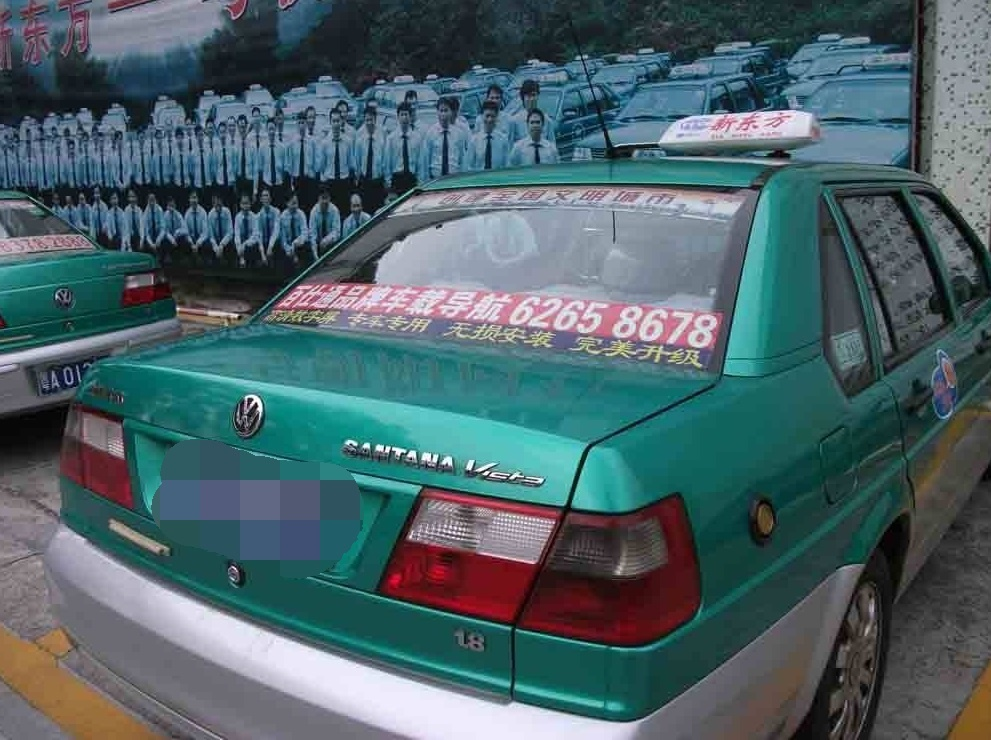taxi: (66, 116, 991, 736)
